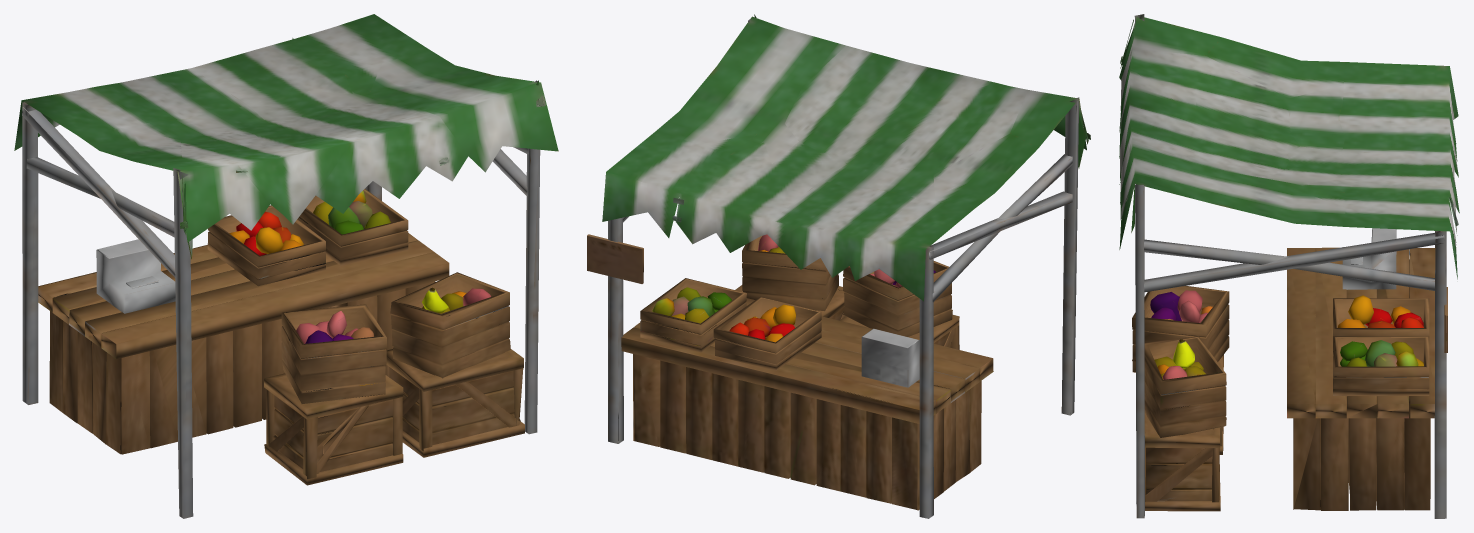
File: barraca.glb
The picture shows the model from 3 angles, left to right: view 1: azimuth 30°, elevation 25°; view 2: azimuth 150°, elevation 25°; view 3: azimuth 270°, elevation 25°; orthographic projection. The views are drawn at different scales.
Parts seen in each view (by area): view 1: geometry_0; view 2: geometry_0; view 3: geometry_0.
Part boxes in pixels (box(x1,y1,x2,y2)): geometry_0: box(14, 14, 558, 518); geometry_0: box(587, 14, 1090, 518); geometry_0: box(1119, 14, 1459, 518).
Bounding box in the file's own units: 0.9644 × 0.8433 × 0.7651.
Materials: 1 (1 with a texture image).
